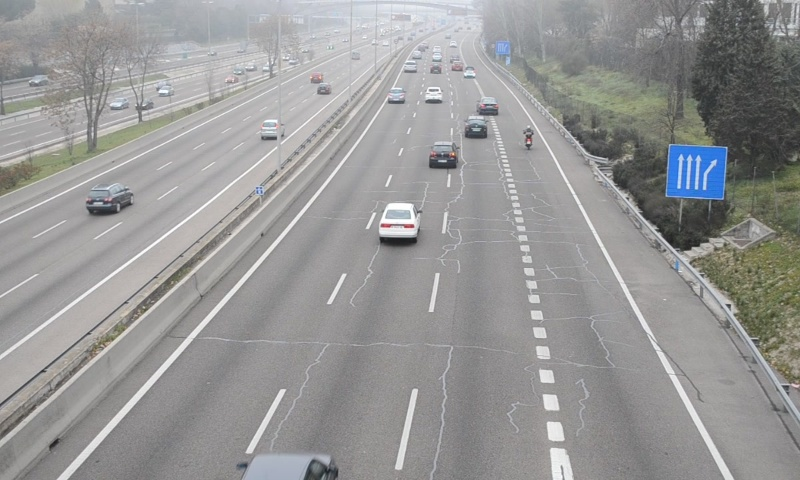car: (380, 203, 421, 239), (429, 142, 458, 169), (464, 116, 488, 138), (478, 96, 500, 115), (424, 86, 444, 103), (387, 88, 405, 104)
motorcycle: (524, 126, 534, 149)
